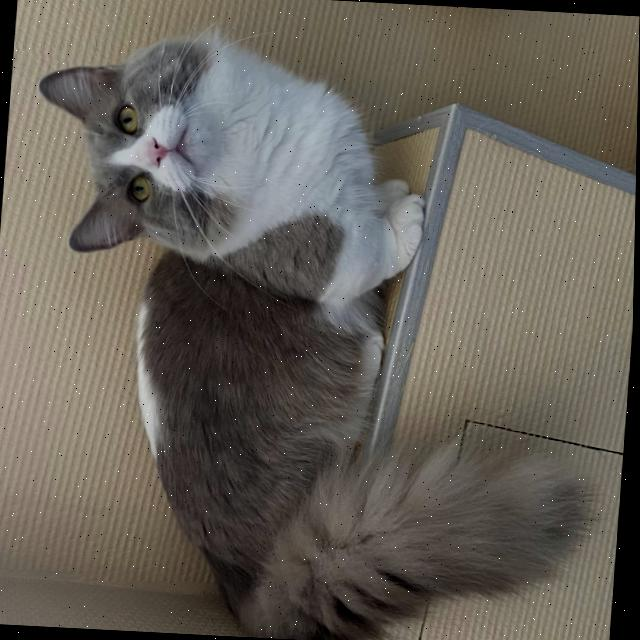Munchkin: (0, 16, 622, 640)
